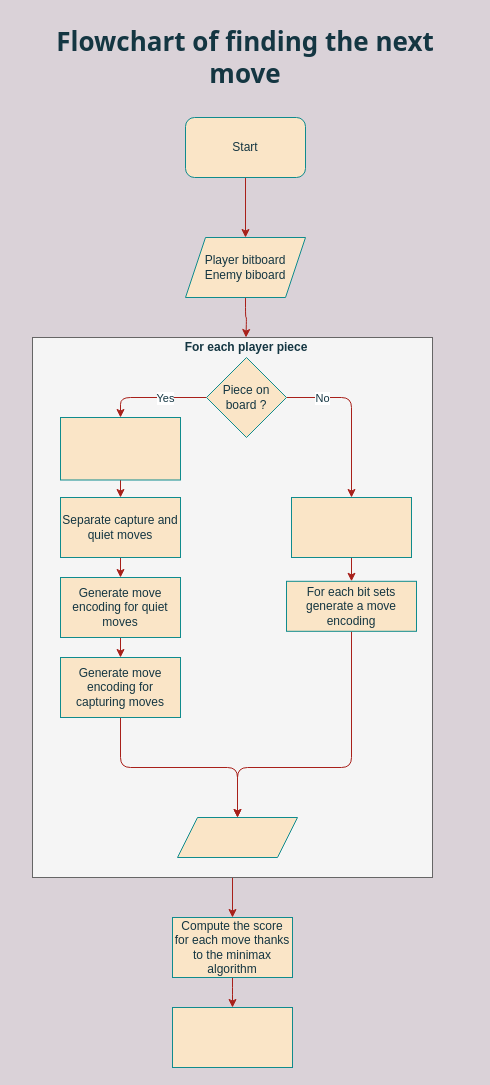
Some shapes in this 490 by 1085 pixel diagram are drawn without their labels. Here are the shapes that lost their labels. From the top down, the centre of each, then its label:
At pixel 120 448: "Generate move board in function of piece type".
At pixel 351 527: "The move board is equal to occupancy XOR max(u32)".
At pixel 237 837: "move list".
At pixel 232 1037: "Play the best move".
